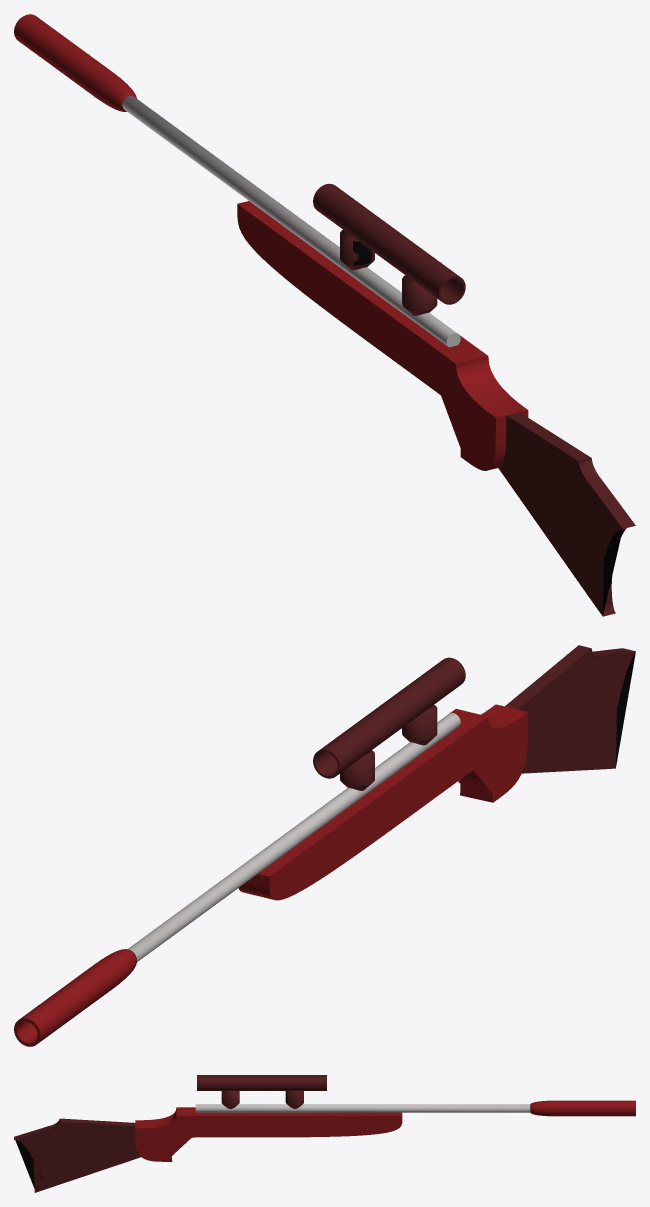
Rendered from KetchupKarbine2.fbx.
The picture shows the model from 3 angles, top to bottom: view 1: azimuth 30°, elevation 25°; view 2: azimuth 150°, elevation 25°; view 3: azimuth 270°, elevation 25°; orthographic projection. The views are drawn at different scales.
Visible parts, largest first — view 1: Grip; view 2: Grip; view 3: Grip.
Part boxes in pixels (bbox=[...]): Grip: bbox=[14, 14, 635, 616]; Grip: bbox=[14, 645, 635, 1046]; Grip: bbox=[14, 1075, 635, 1192].
Size of the model in its own units: 46.25 by 306 by 1491.
